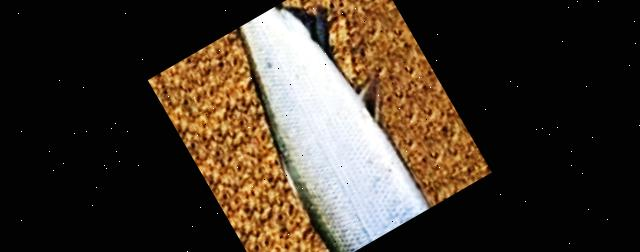Healthy Fish: (239, 7, 427, 252)
